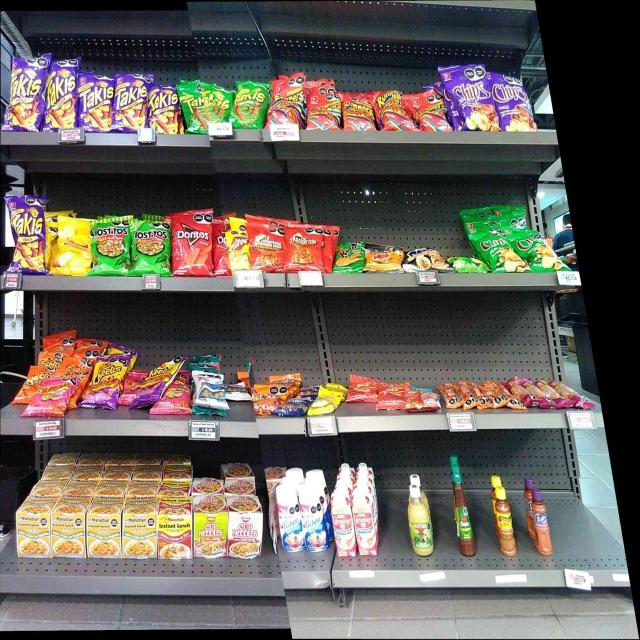bitzEnchilado90: (349, 378, 377, 402), (380, 382, 404, 407)
bitzEnchilado95: (440, 383, 510, 408)
bitzHabanero: (514, 378, 580, 409)
bokadosCacahuates: (281, 396, 308, 416)
botaneraChilito: (494, 488, 518, 556)
cheetosFlaminHot: (92, 356, 118, 407), (141, 365, 165, 402)
cheetosOriginal: (26, 369, 49, 386), (39, 352, 65, 367)
chipsFuego: (10, 196, 46, 274), (449, 68, 493, 130), (496, 74, 530, 131)
chipsJalapeno: (486, 231, 520, 272), (521, 230, 555, 269)
chipsPapatinas: (448, 256, 484, 274)
churrumais: (33, 388, 65, 416), (168, 386, 191, 414)
delPrimoSalsa: (407, 486, 435, 555)
doritosNacho: (172, 217, 212, 274), (214, 220, 227, 276)
fritosLimon: (228, 232, 250, 271)
hotNutsOriginal: (367, 244, 402, 272)
leoCacahuates: (194, 371, 226, 408), (229, 383, 248, 400)
leoMix: (254, 382, 280, 412)
maruchanPollo: (123, 496, 157, 561), (87, 494, 121, 558), (51, 494, 85, 558), (17, 493, 50, 558)
maruchanRes: (158, 495, 192, 558)
nestleCarnation: (354, 496, 379, 555), (331, 496, 353, 556)
nestleLechera: (300, 493, 327, 549), (276, 491, 298, 549)
nissinCamaron: (194, 494, 226, 558)
nissinRes: (228, 495, 261, 558)
popKarameladas: (405, 248, 445, 272)
productoAtras: (407, 390, 438, 408)
rancheritos: (287, 225, 323, 271), (252, 227, 285, 272)
rufflesQueso: (335, 243, 364, 273)
runners: (304, 86, 339, 130), (268, 80, 302, 123), (408, 95, 445, 132), (375, 90, 405, 128), (341, 94, 372, 130)
sabritasOriginal: (48, 217, 89, 275)
salsaBufalo: (451, 476, 475, 556)
semillasCalabaza: (312, 388, 342, 412)
tajinDulce: (530, 488, 554, 554)
takisFuego: (11, 58, 46, 132), (78, 73, 114, 131), (48, 61, 78, 127), (116, 73, 147, 128), (148, 85, 179, 134)
takisOriginal: (233, 82, 266, 128), (181, 85, 204, 133), (207, 84, 230, 122)
tostitos: (92, 220, 130, 275), (132, 220, 170, 275)
